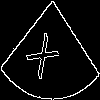X: (25, 25, 65, 81)
